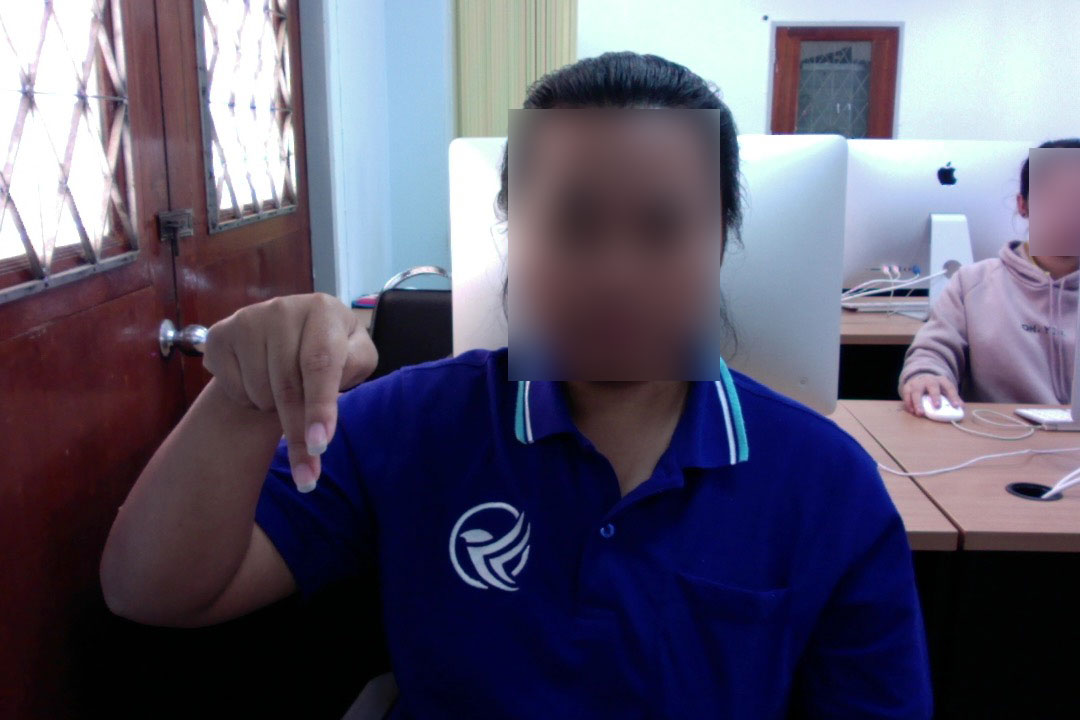por: (187, 285, 385, 499)
